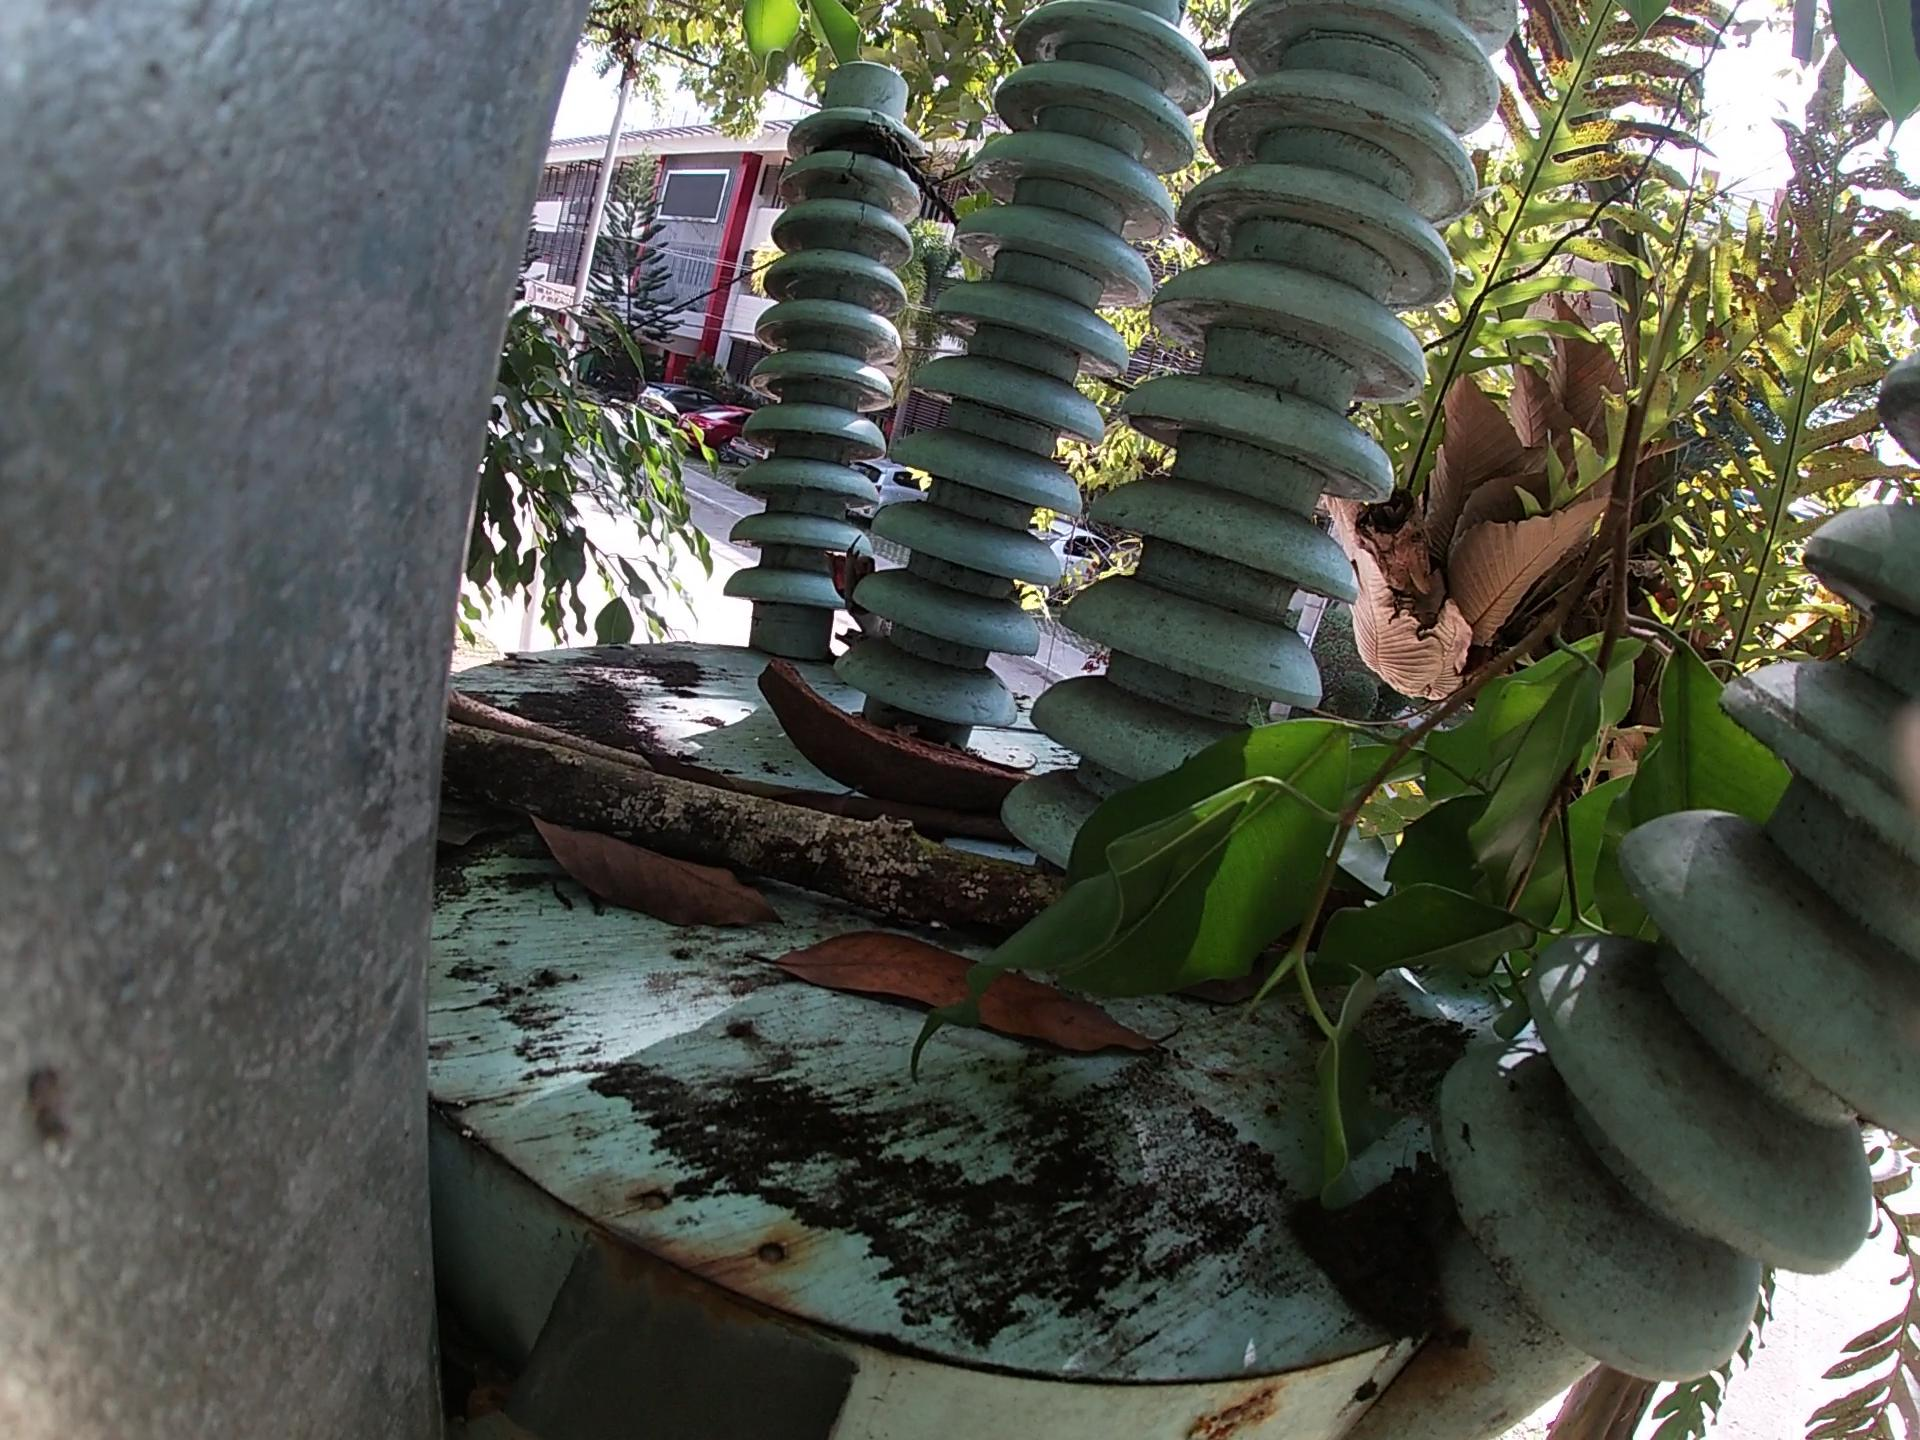branch with leaves: (986, 251, 1779, 1274)
leaf: (709, 939, 1179, 1092), (529, 830, 800, 935)
mahogany fruit: (766, 666, 1043, 824)
tree branch: (410, 731, 1107, 927), (444, 684, 656, 756)
